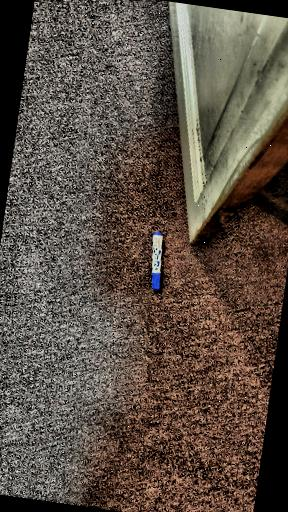marcador azul: (152, 231, 162, 290)
